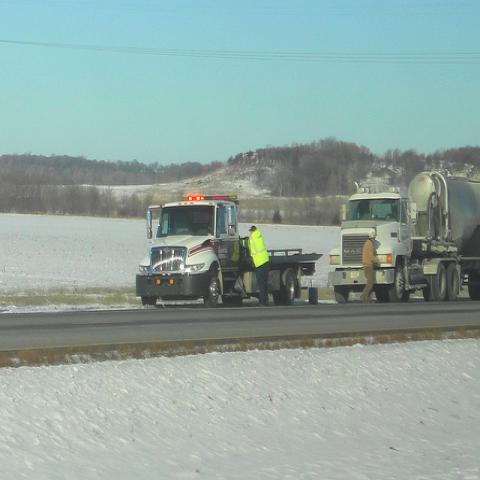truck: (136, 196, 324, 310), (325, 170, 479, 305)
